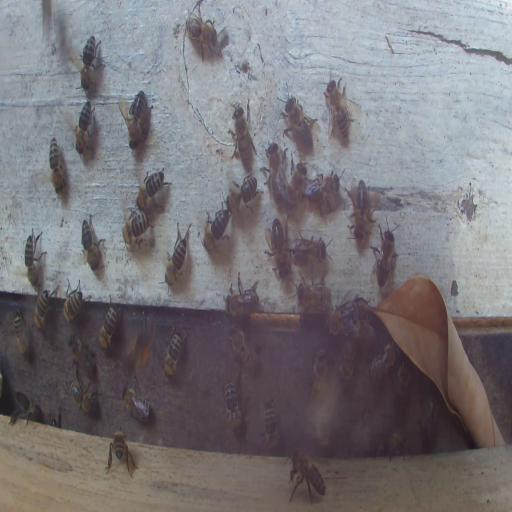nonpollenbee: (278, 83, 314, 147), (287, 449, 326, 505), (322, 75, 354, 142), (185, 5, 222, 62), (370, 217, 398, 288), (165, 220, 192, 289), (221, 371, 249, 437), (263, 138, 287, 210), (104, 427, 137, 478), (120, 92, 150, 148), (136, 168, 172, 214), (202, 200, 231, 254), (231, 105, 256, 167), (224, 272, 259, 316), (78, 34, 104, 92), (81, 216, 105, 276), (24, 227, 46, 292), (350, 179, 371, 244), (122, 376, 151, 423), (306, 170, 338, 212), (62, 277, 90, 324), (296, 274, 329, 313), (74, 100, 96, 158), (68, 335, 96, 380), (290, 234, 330, 265), (269, 220, 289, 280), (285, 155, 308, 207), (337, 329, 357, 388), (326, 296, 354, 336), (367, 342, 395, 382), (122, 209, 151, 247), (98, 300, 120, 350), (393, 355, 413, 410), (162, 328, 183, 378), (11, 392, 41, 425), (48, 135, 64, 195), (311, 346, 327, 405), (70, 378, 96, 414), (374, 433, 406, 460), (13, 308, 29, 359), (33, 287, 51, 331), (230, 327, 250, 366), (264, 398, 278, 451), (238, 178, 257, 210)
pollenbee: (125, 311, 155, 375)
